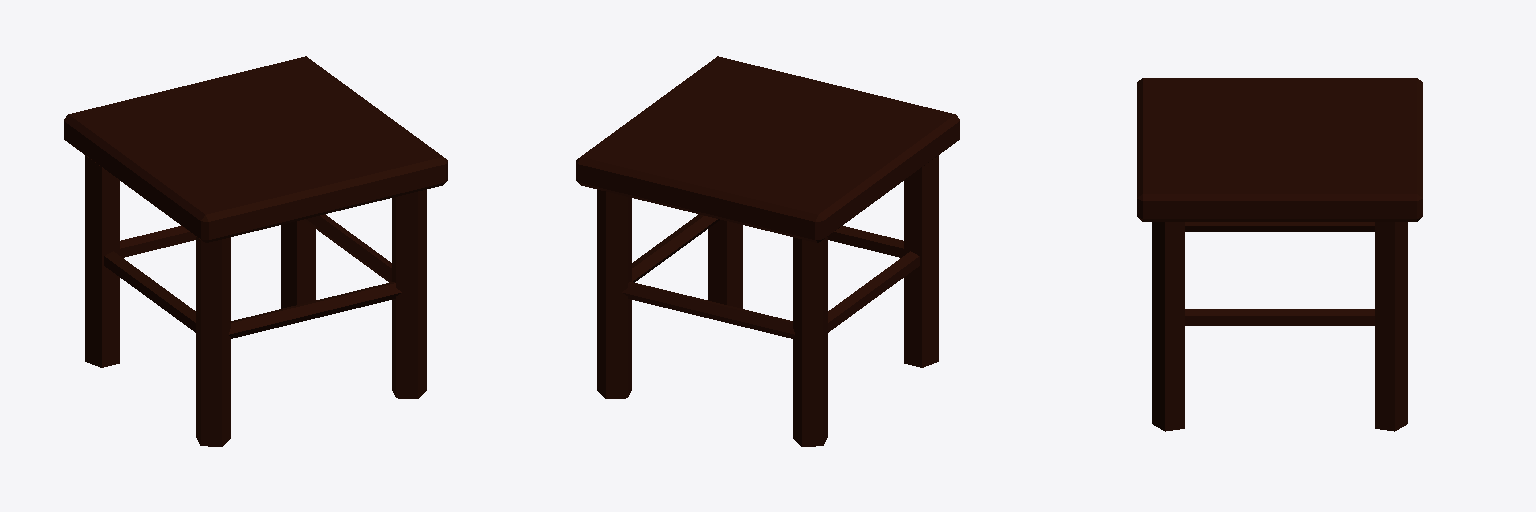
Rendered from Chair.obj.
3 views of the same model, side by side, from view 1: azimuth 30°, elevation 25°; view 2: azimuth 150°, elevation 25°; view 3: azimuth 270°, elevation 25° (orthographic).
Visible parts, largest first — view 1: Cube; view 2: Cube; view 3: Cube.
Part boxes in pixels (x1,y1,x2,y2): Cube: (64,56,447,446); Cube: (576,56,959,446); Cube: (1137,78,1422,431).
Bounding box in the file's own units: 2 × 1.86 × 2.